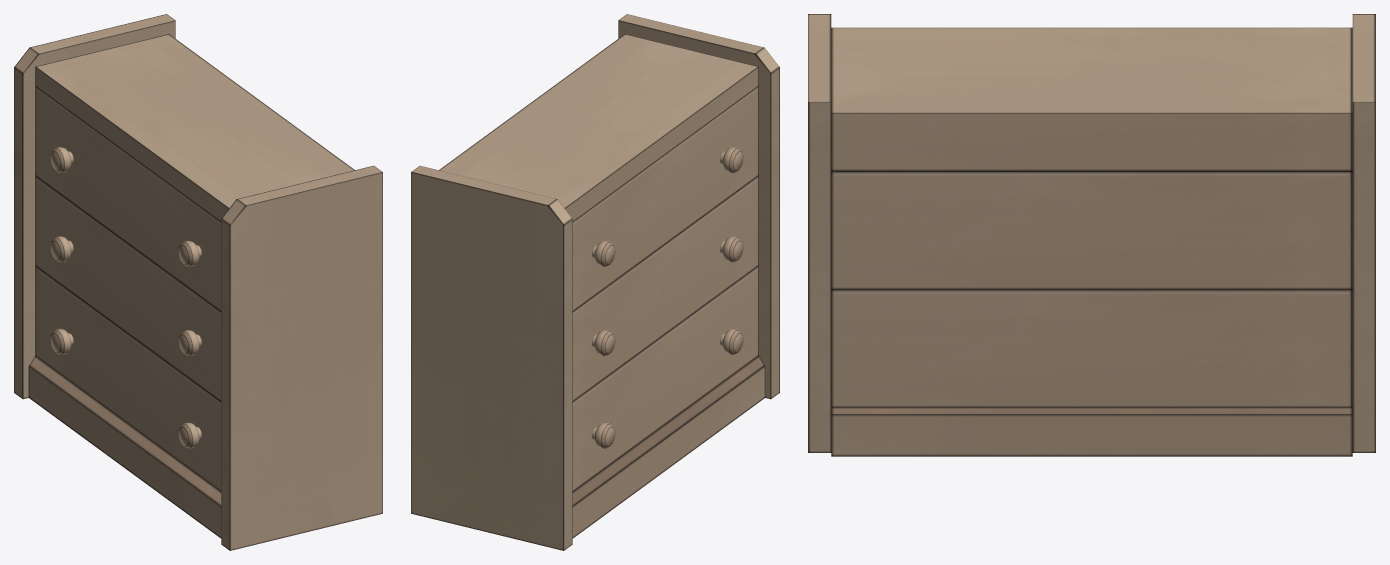
Rendered from drawer.fbx.
3 views of the same model, side by side, from view 1: azimuth 30°, elevation 25°; view 2: azimuth 150°, elevation 25°; view 3: azimuth 270°, elevation 25° (orthographic). The views are drawn at different scales.
Parts seen in each view (by area): view 1: polySurface1541; view 2: polySurface1541; view 3: polySurface1541.
Boxes of the visible parts, bbox=[...] form: polySurface1541: bbox=[14, 14, 382, 550]; polySurface1541: bbox=[411, 14, 779, 550]; polySurface1541: bbox=[808, 14, 1375, 456].
Bounding box in the file's own units: 0.6734 × 1.4 × 1.61.
